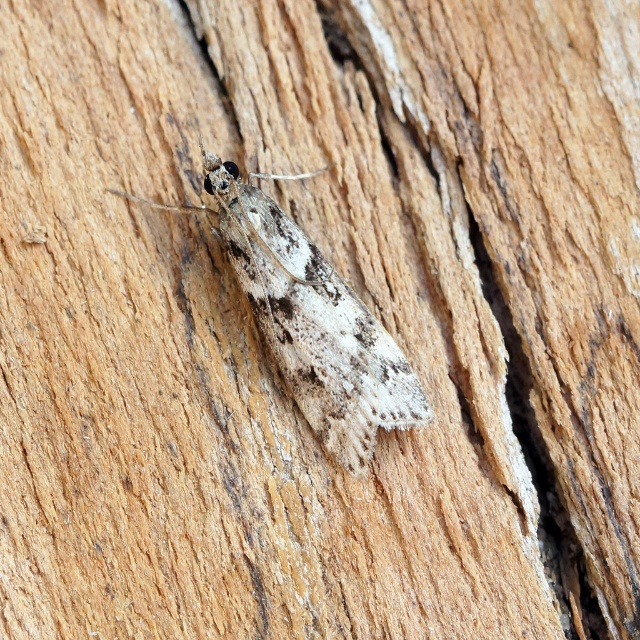Moths and butterflies: (105, 144, 439, 482)
